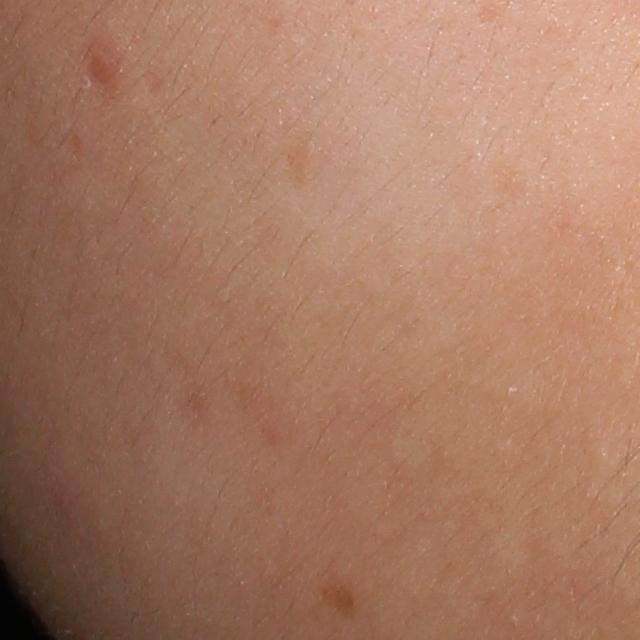papule: (85, 47, 118, 87)
